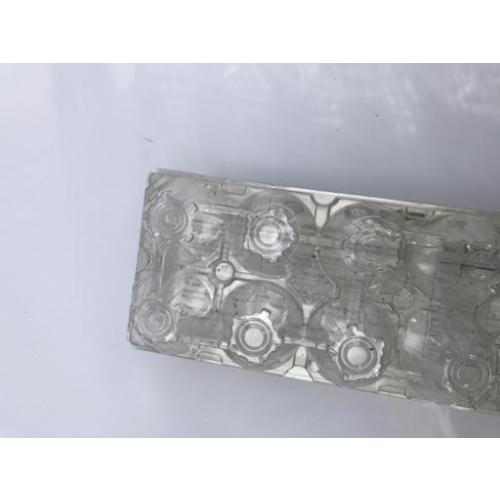plastic: (141, 172, 500, 409)
